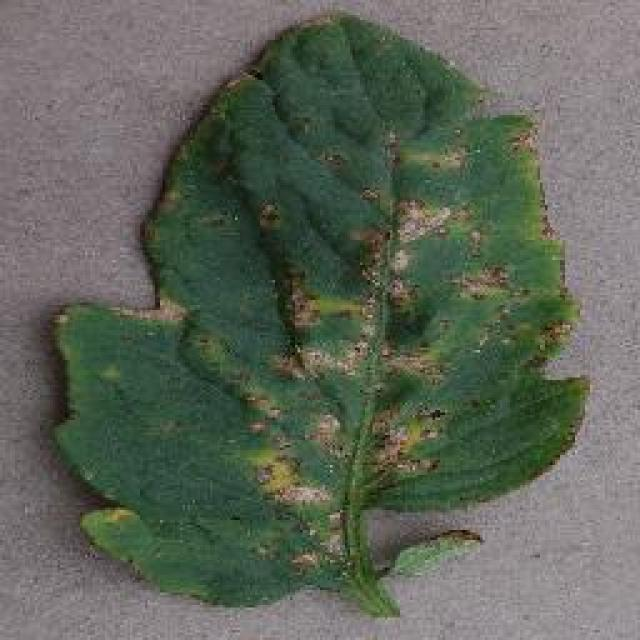Tomato___Bacterial_spot: (54, 12, 596, 622)
